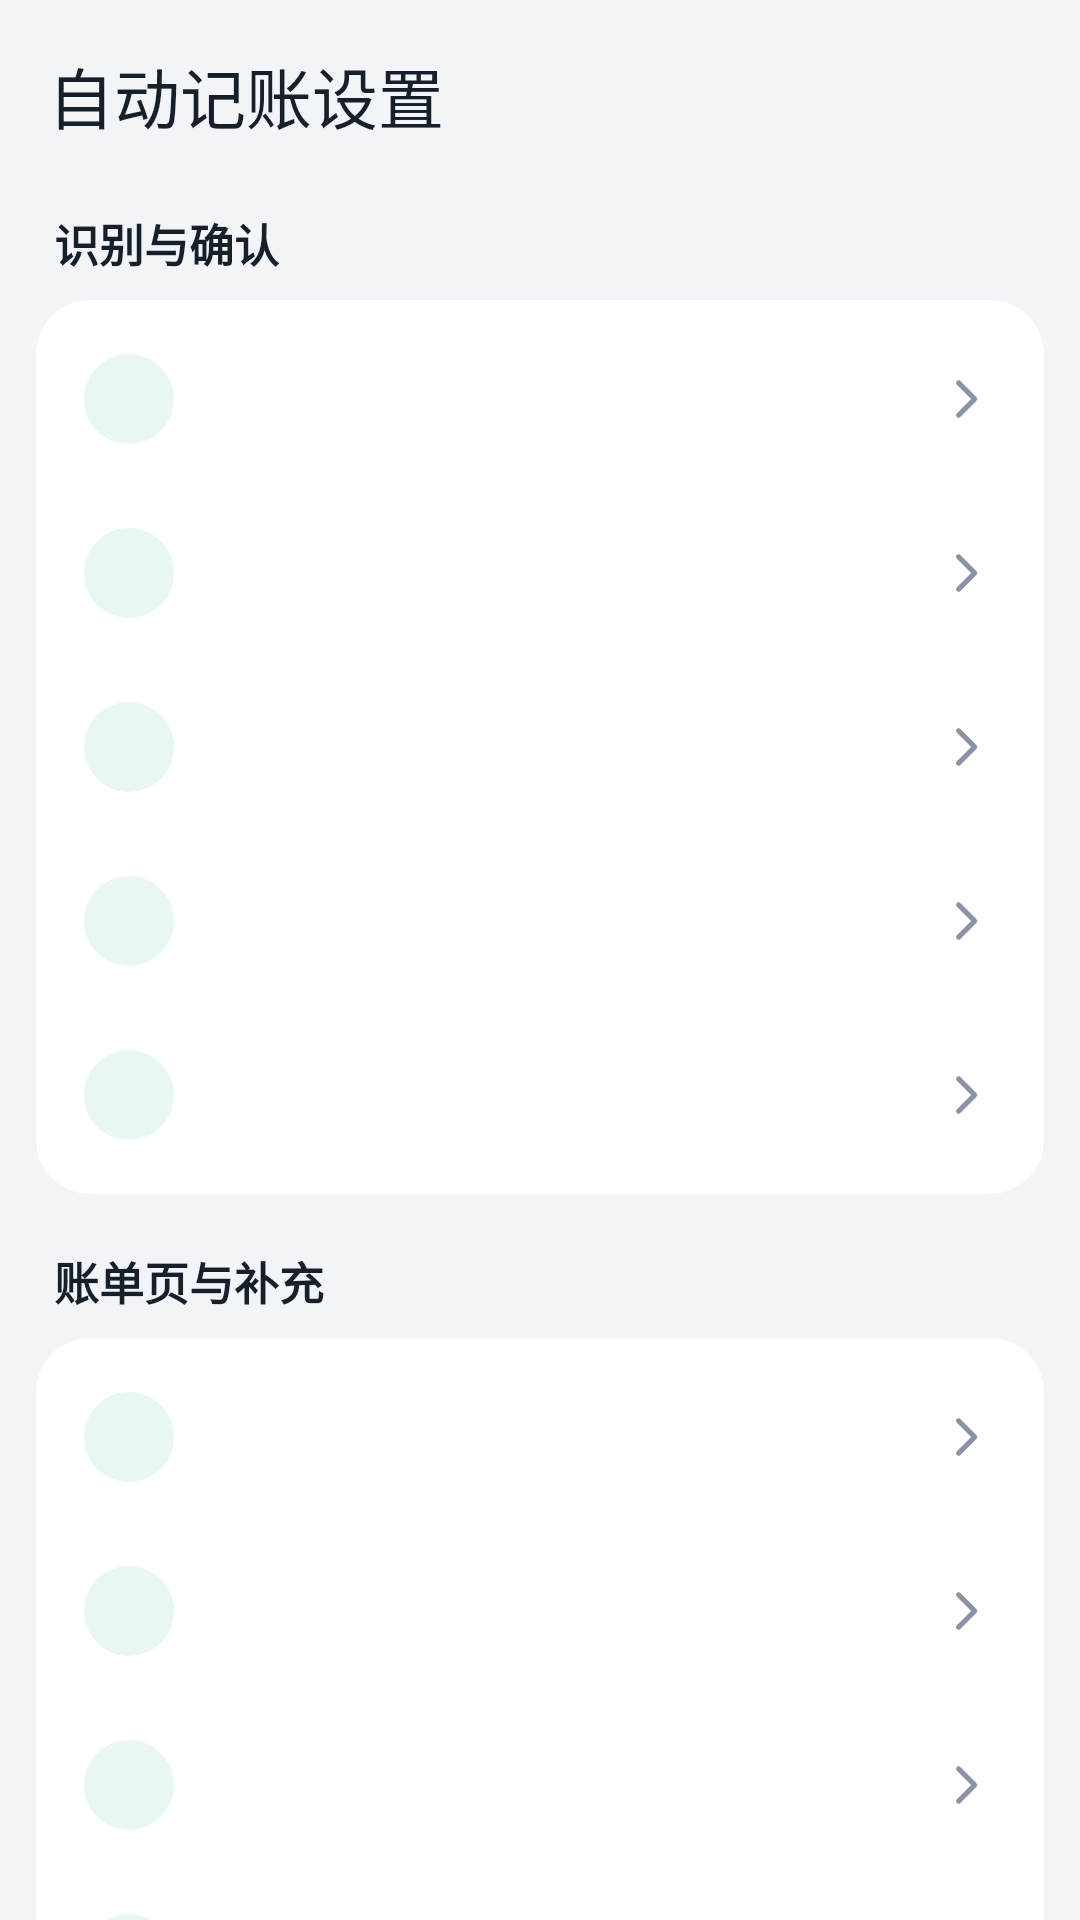

Locate icon controls on the screen. Image size 1080w x 1920h, boxes as (x1, y1, x2, y2).
chevron right: (956, 380, 977, 418), (956, 554, 977, 592), (956, 728, 977, 766), (956, 902, 977, 940), (956, 1076, 977, 1114), (956, 1418, 977, 1456), (956, 1592, 977, 1630), (956, 1766, 977, 1804)
